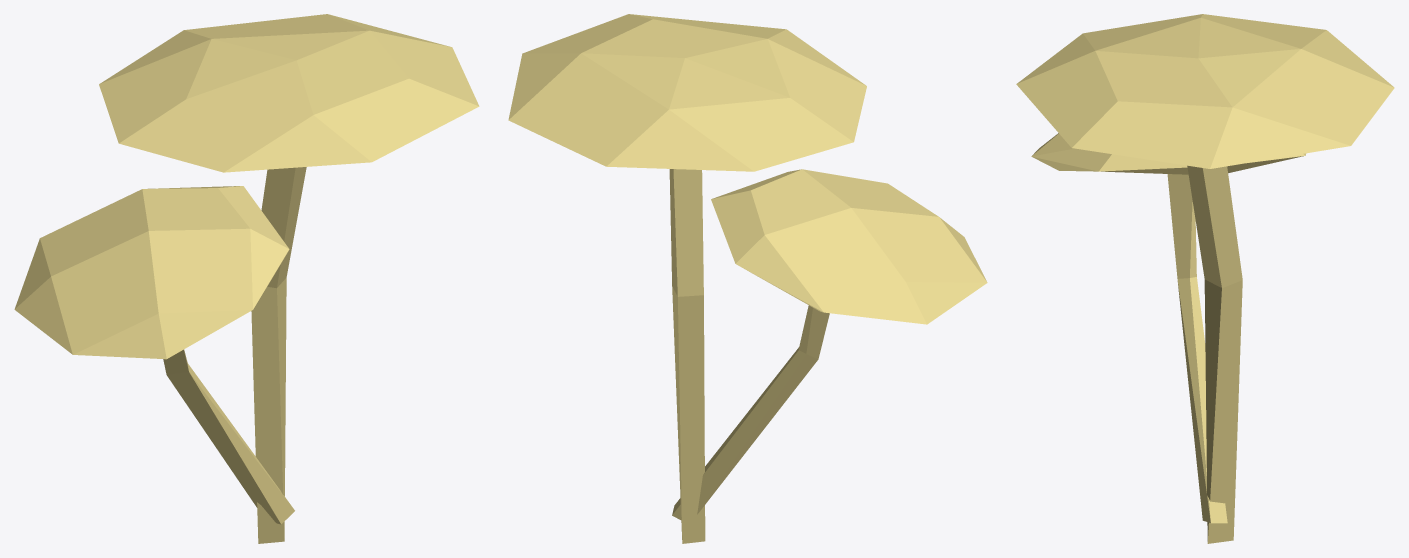
Rendered from Mushroom_h_04.fbx.
3 views of the same model, side by side, from view 1: azimuth 30°, elevation 25°; view 2: azimuth 150°, elevation 25°; view 3: azimuth 270°, elevation 25° (orthographic). The views are drawn at different scales.
Visible parts, largest first — view 1: Mushroom_h_04; view 2: Mushroom_h_04; view 3: Mushroom_h_04.
Part boxes in pixels (x1=…): Mushroom_h_04: x1=14, y1=14, x2=479, y2=543; Mushroom_h_04: x1=508, y1=14, x2=987, y2=543; Mushroom_h_04: x1=1016, y1=14, x2=1394, y2=543.
Bounding box in the file's own units: 0.268 × 0.2884 × 0.2023.
